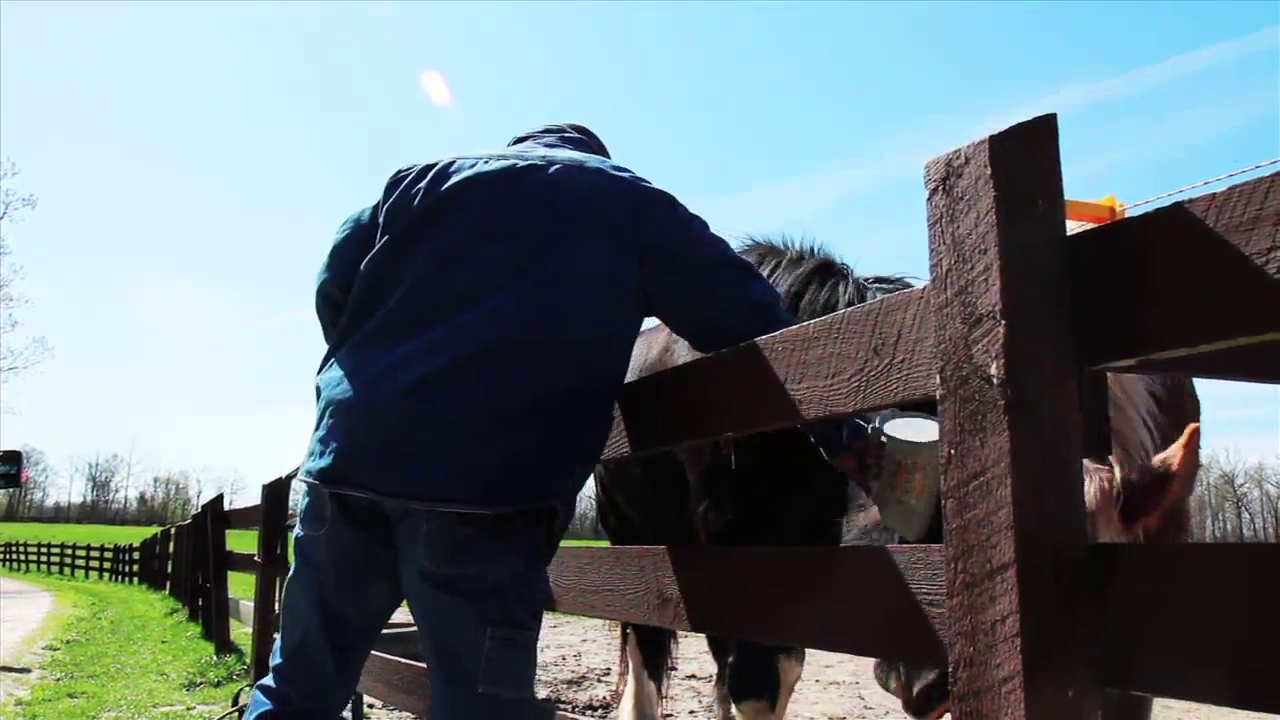person: (241, 124, 886, 720)
